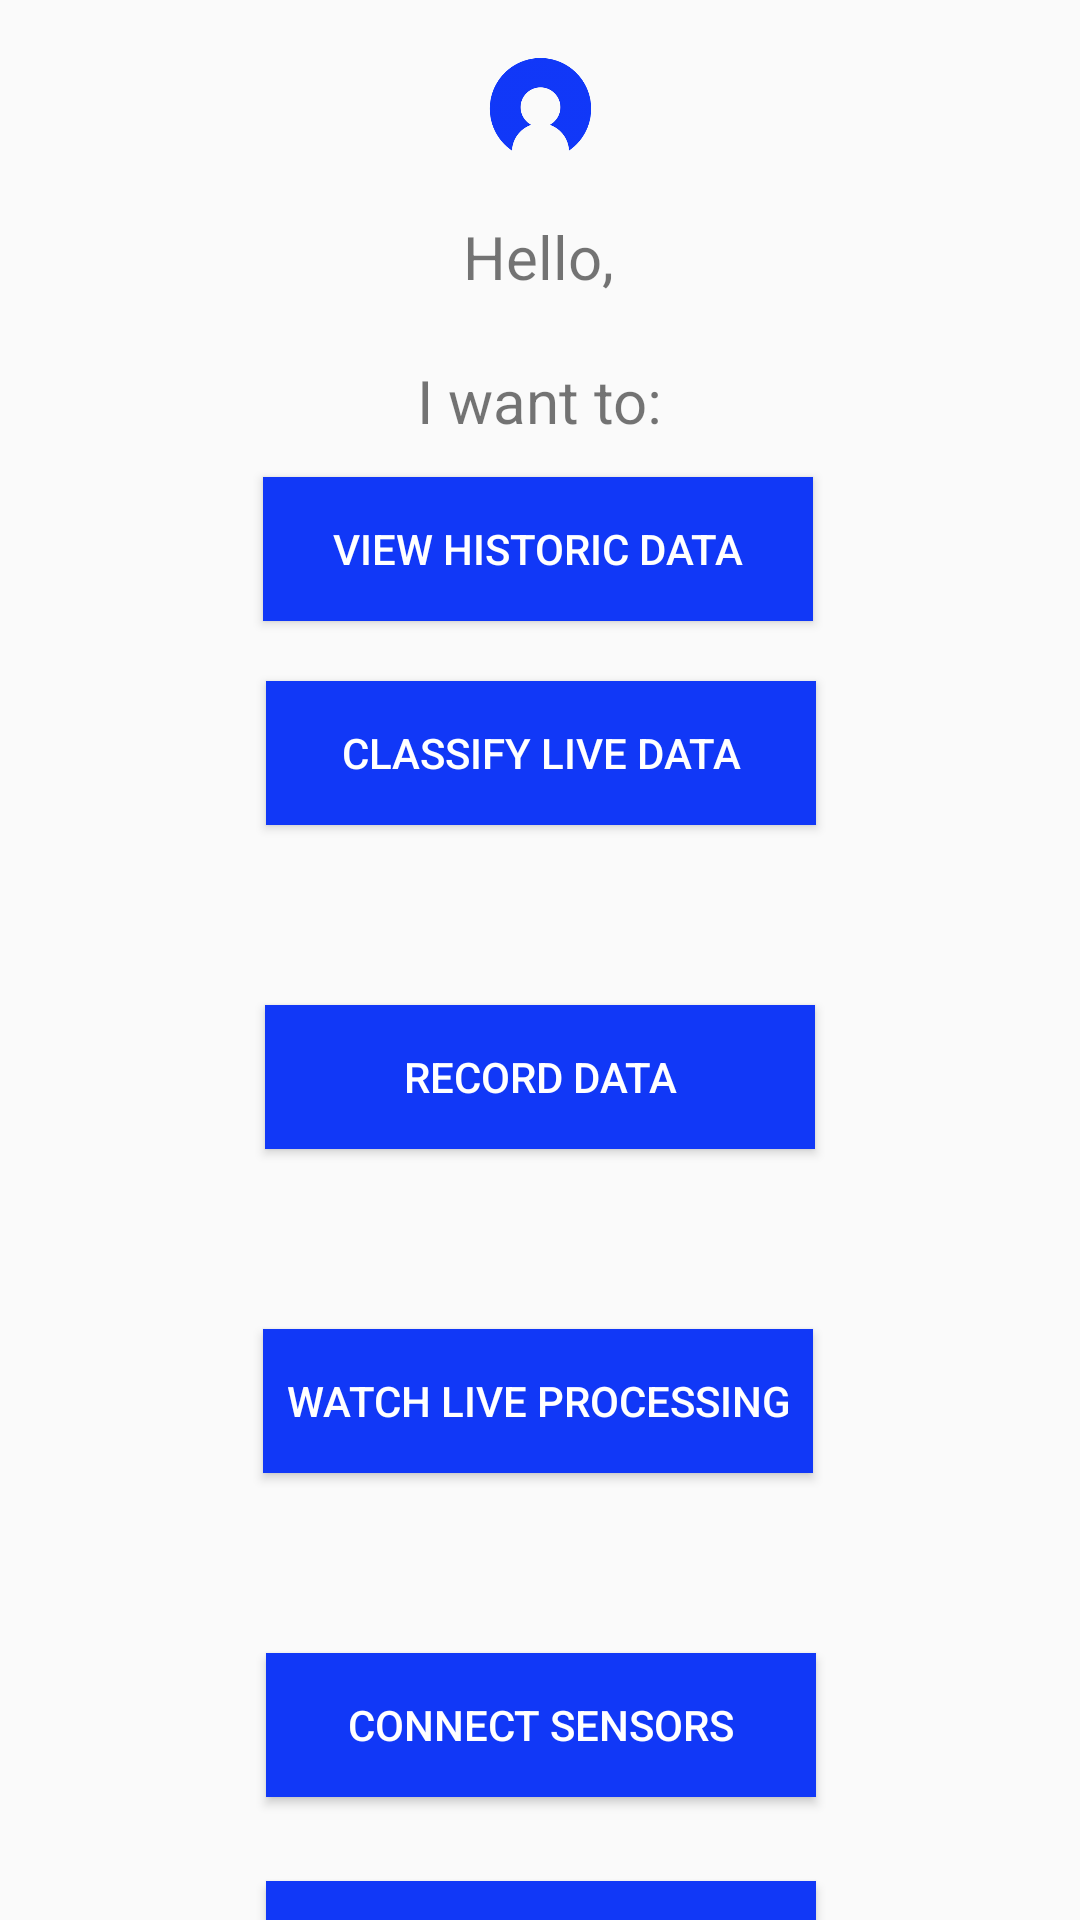

Icons on this 1080x1920 Android screen, each with its box as (x1, y1, x2, y2):
account picture: (490, 58, 591, 151)
